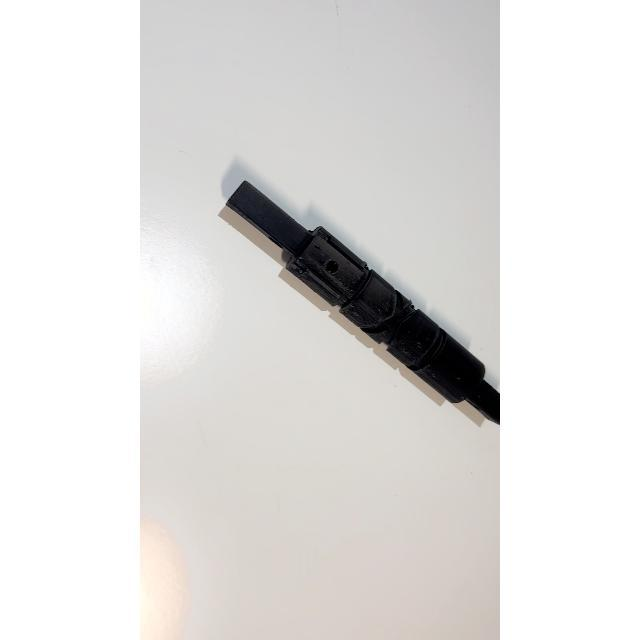Pieza1: (215, 167, 500, 445)
